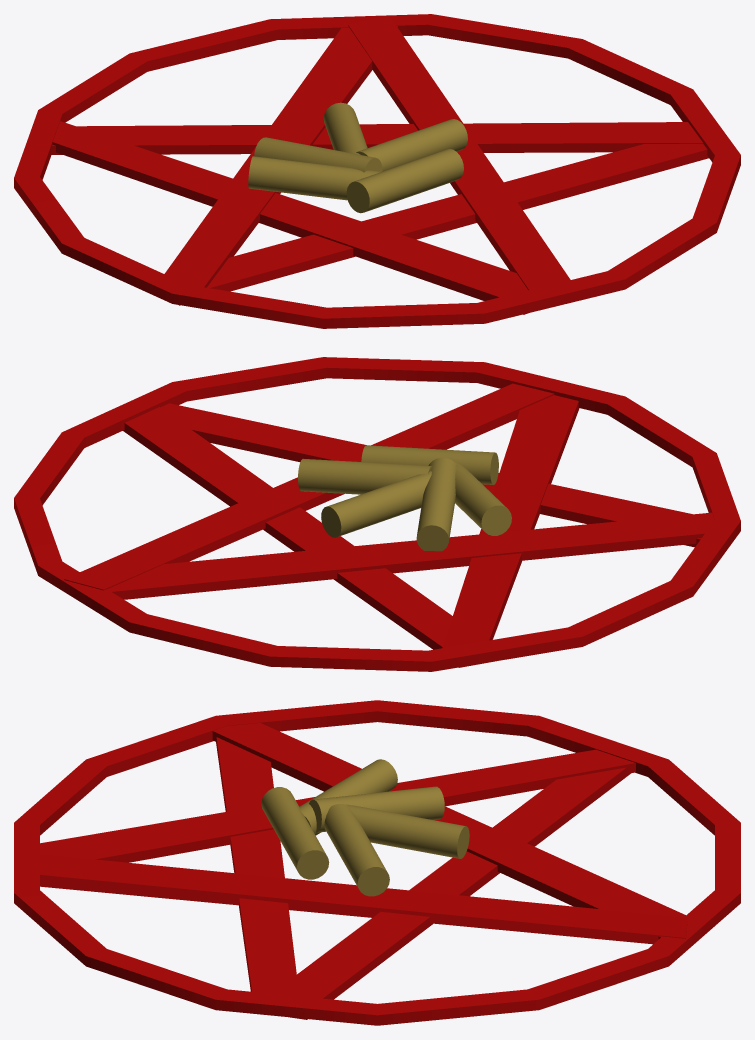
The model's file is Cauldron_Pentagram.fbx.
3 views of the same model, one above another, from view 1: azimuth 30°, elevation 25°; view 2: azimuth 150°, elevation 25°; view 3: azimuth 270°, elevation 25° (orthographic). The views are drawn at different scales.
Parts seen in each view (by area): view 1: polySurface30; view 2: polySurface30; view 3: polySurface30.
Boxes of the visible parts, box(x1,y1,x2,y2) form: polySurface30: box(14, 14, 740, 328); polySurface30: box(14, 357, 740, 671); polySurface30: box(14, 700, 740, 1025).
Bounding box in the file's own units: 34.32 × 2.68 × 33.46.
